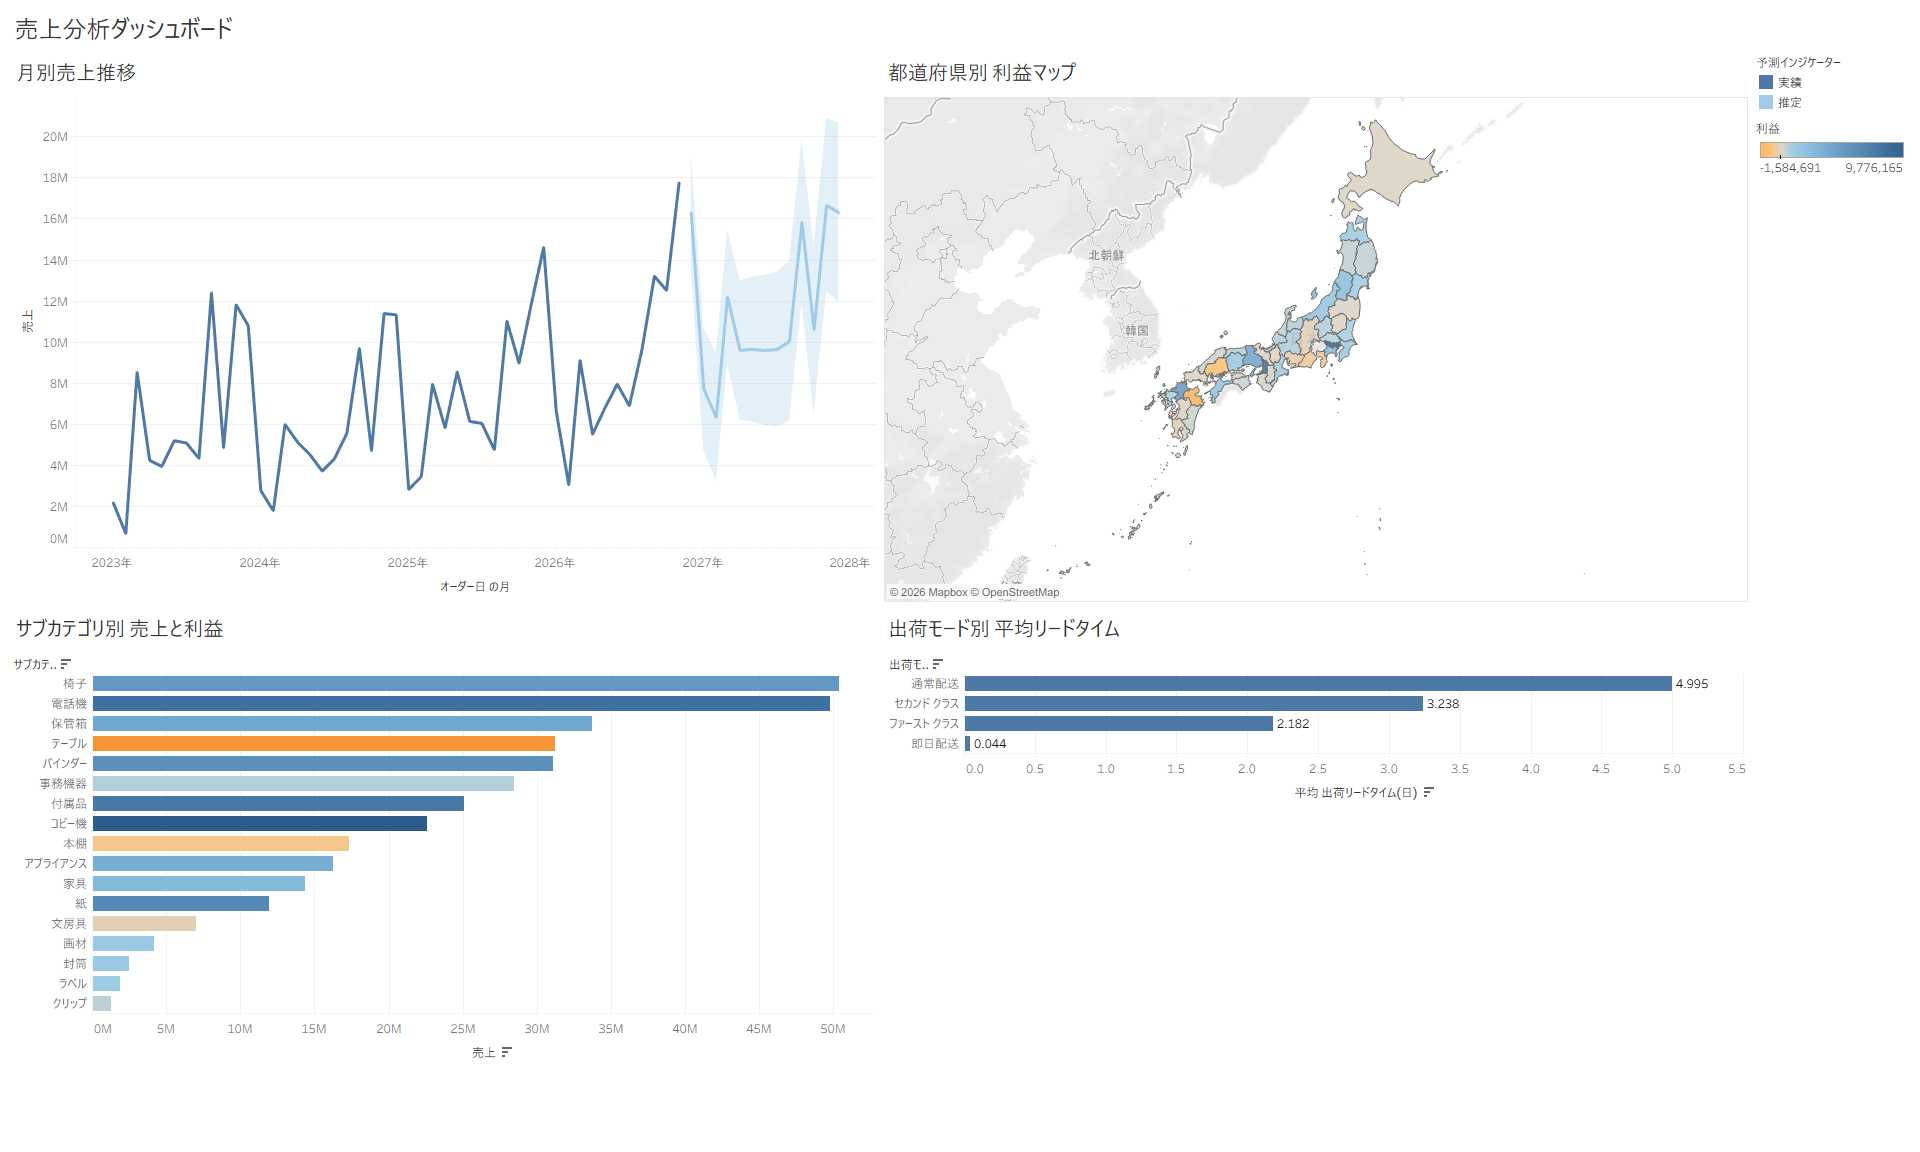

The page's visual inventory and layout, read from the dashboard file:
{"tool":"tableau","page":{"name":"売上分析ダッシュボード","canvas":[1000,1000],"units":"permille","ordinal":0},"visuals":[{"type":"title","box":[4.7,7.9,990.6,41.3]},{"type":"worksheet","title":"月別売上推移","mark":"Automatic","rows":["売上"],"cols":["オーダー日"],"box":[4.7,49.2,448.5,471.5]},{"type":"worksheet","title":"都道府県別 利益マップ","mark":"Multipolygon","box":[453.2,49.2,448.5,471.5]},{"type":"legend","title":"月別売上推移","param":"[サンプル - スーパーストア].[none:Forecast Indicator:nk]","box":[901.7,49.2,93.6,65]},{"type":"legend","title":"都道府県別 利益マップ","param":"[サンプル - スーパーストア].[sum:利益:qk]","box":[901.7,114.2,93.6,64]},{"type":"worksheet","title":"サブカテゴリ別 売上と利益","mark":"Automatic","rows":["サブカテゴリ"],"cols":["売上"],"box":[4.7,520.7,448.5,471.5]},{"type":"worksheet","title":"出荷モード別 平均リードタイム","mark":"Automatic","rows":["出荷モード"],"cols":["Calculation_1357122600267776"],"box":[453.2,520.7,448.5,471.5]}]}

Visuals, with their boxes on the dashboard's canvas, which has no fixed pixel size, in thousandths of its width and height (x1, y1, x2, y2). These are canvas units, not pixel positions in the 1920x1152 screenshot, which may show the page scaled, cropped or inside an application window:
title: crop(5, 8, 995, 49)
"月別売上推移" worksheet: crop(5, 49, 453, 521)
"都道府県別 利益マップ" worksheet (Multipolygon marks): crop(453, 49, 902, 521)
"月別売上推移" legend: crop(902, 49, 995, 114)
"都道府県別 利益マップ" legend: crop(902, 114, 995, 178)
"サブカテゴリ別 売上と利益" worksheet: crop(5, 521, 453, 992)
"出荷モード別 平均リードタイム" worksheet: crop(453, 521, 902, 992)
